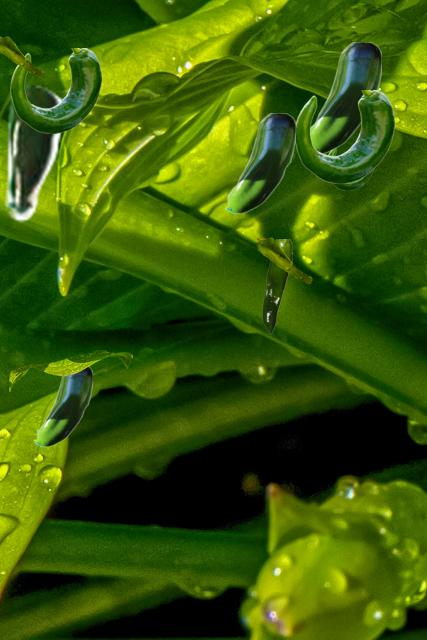green_chili: (295, 90, 394, 182), (1, 83, 66, 221), (311, 42, 380, 153), (10, 48, 101, 132), (224, 113, 294, 213), (34, 367, 91, 446), (262, 239, 291, 333), (328, 149, 374, 189)
